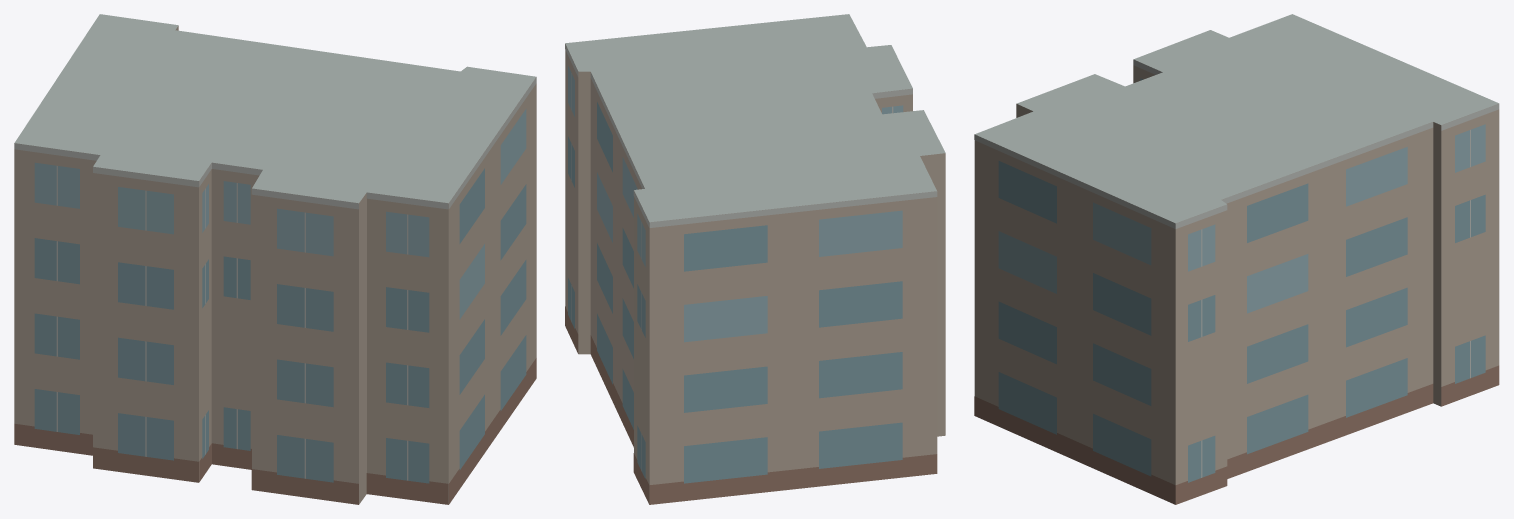
Rendered from survey-upis-32773214.glb.
3 views of the same model, side by side, from view 1: azimuth 30°, elevation 25°; view 2: azimuth 150°, elevation 25°; view 3: azimuth 270°, elevation 25° (orthographic). The views are drawn at different scales.
Parts seen in each view (by area): view 1: survey-upis-32773214.tmp; view 2: survey-upis-32773214.tmp; view 3: survey-upis-32773214.tmp.
Part boxes in pixels (box(x1,y1,x2,y2)): survey-upis-32773214.tmp: box(14, 14, 536, 504); survey-upis-32773214.tmp: box(565, 14, 945, 504); survey-upis-32773214.tmp: box(974, 14, 1499, 504).
Bounding box in the file's own units: 18.83 × 11.8 × 19.94.
